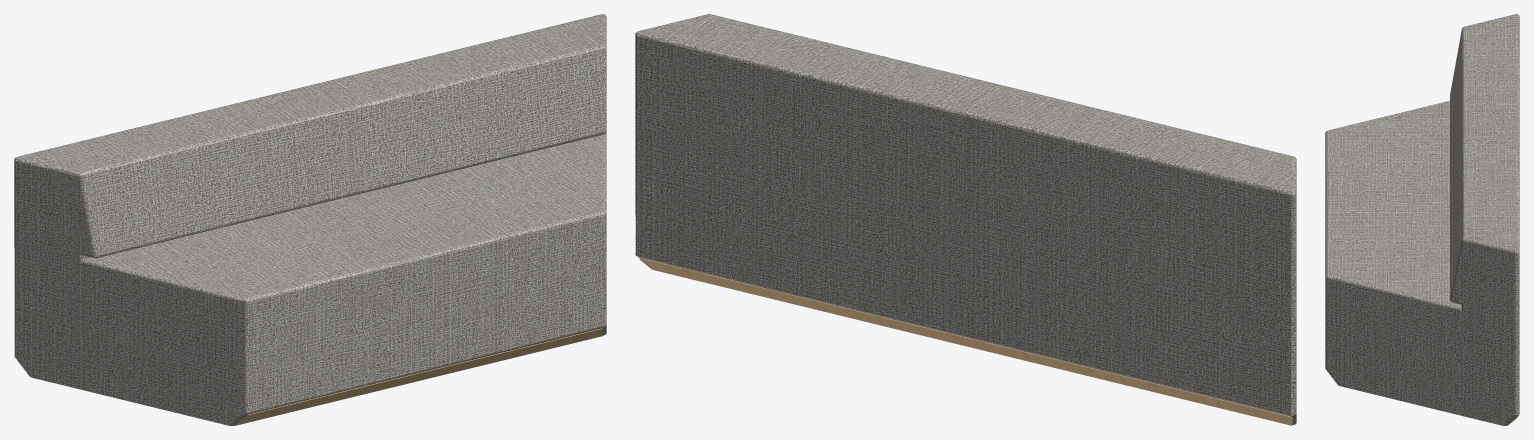
3 views of the same model, side by side, from view 1: azimuth 30°, elevation 25°; view 2: azimuth 150°, elevation 25°; view 3: azimuth 270°, elevation 25° (orthographic). The views are drawn at different scales.
Parts seen in each view (by area): view 1: 2, 3; view 2: 2, 4; view 3: 2.
Boxes of the visible parts, x1,y1,x2,y2 form: 2: (14, 14, 606, 425); 3: (234, 328, 603, 425); 2: (635, 14, 1296, 424); 4: (639, 258, 1292, 425); 2: (1325, 14, 1519, 425).
Bounding box in the file's own units: 1.96 × 0.6937 × 0.6756.
3 materials, 2 textured.
